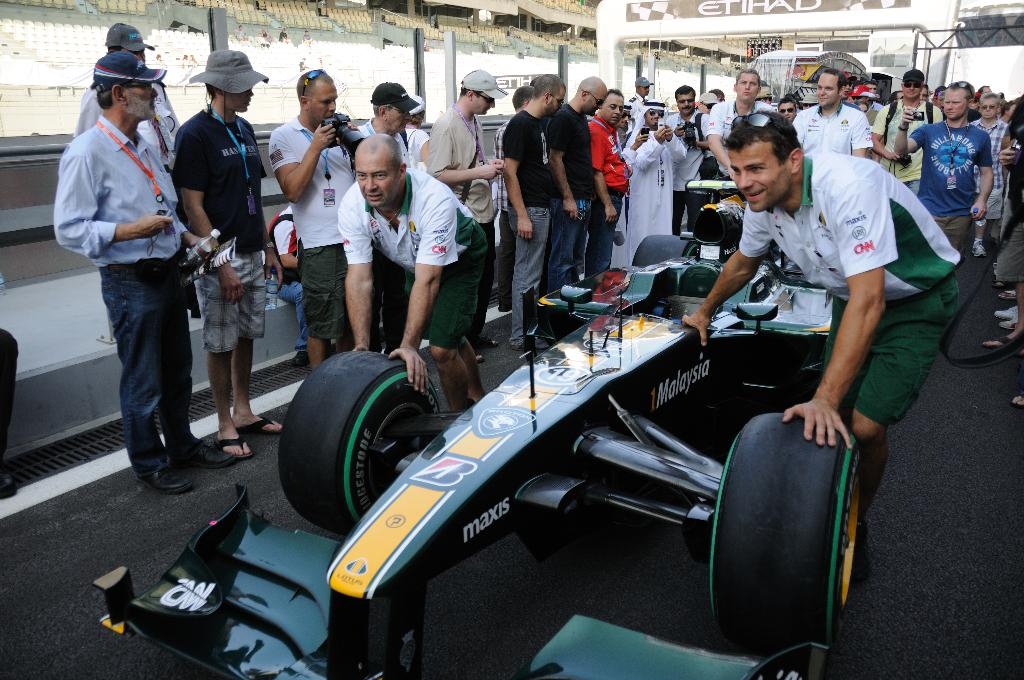Car: (222, 202, 971, 665)
